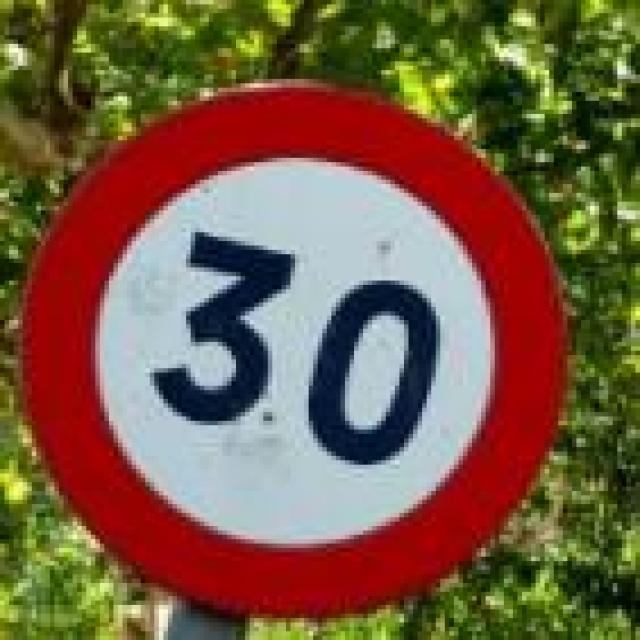speed_limit_30: (14, 79, 562, 618)
